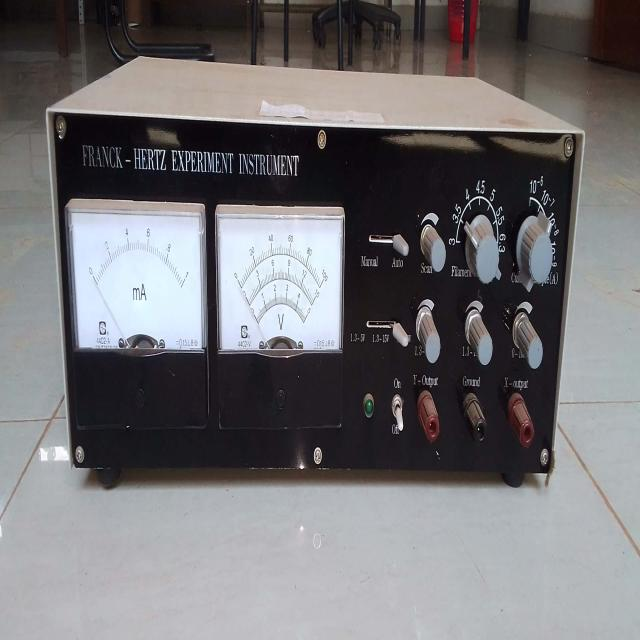Frank-Hertz Experiment Apparatus: (36, 92, 595, 512)
